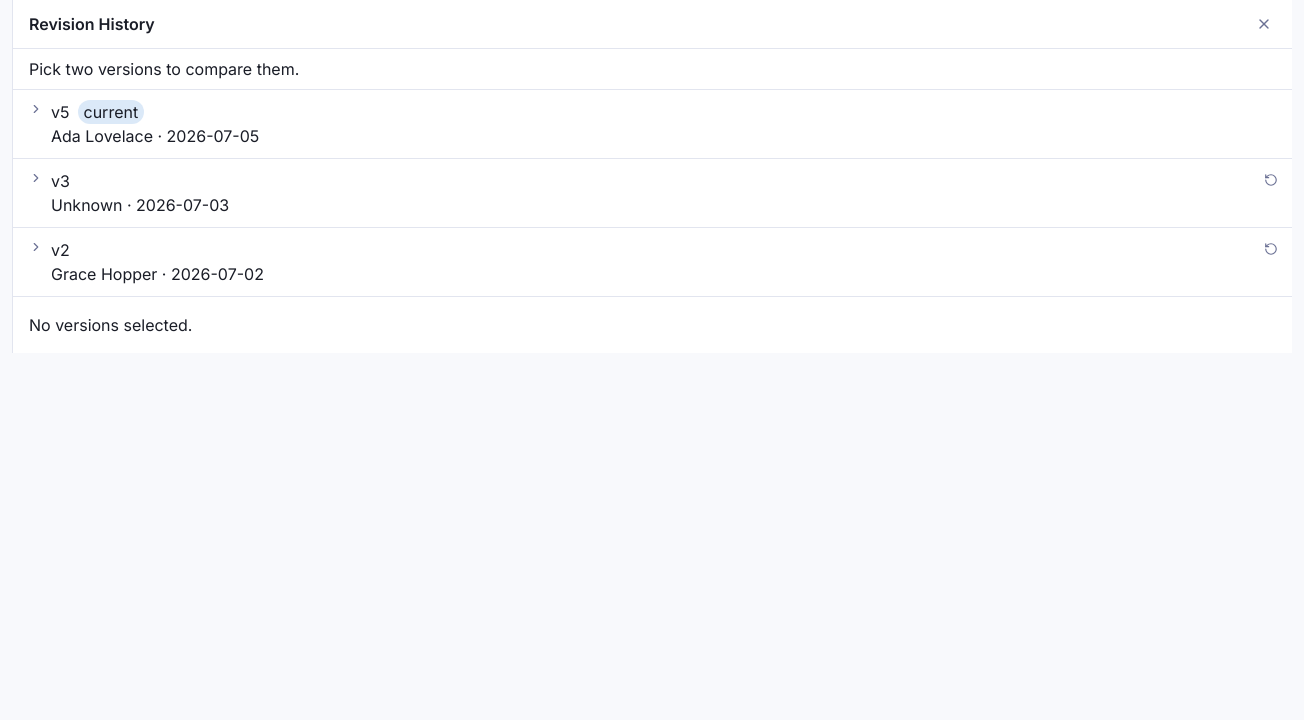
it: comparing two versions › shows the title row when the title did change
Click the button with test id "codex-revision-select" showing "v3 Unknown · 2026-07-03" at (87, 205), box 13,159 -> 1254,227
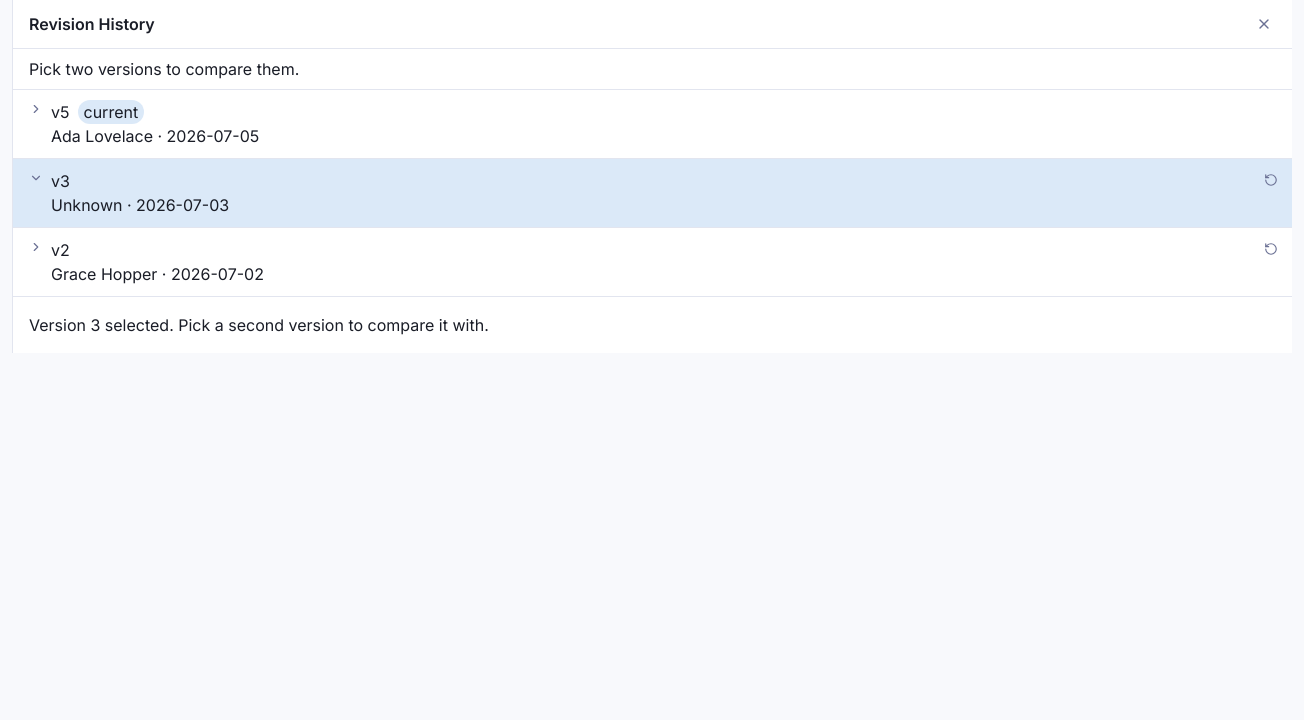
Click the button with test id "codex-revision-select" showing "v2 Grace Hopper · 2026-07-02" at (104, 274), box 13,228 -> 1254,296
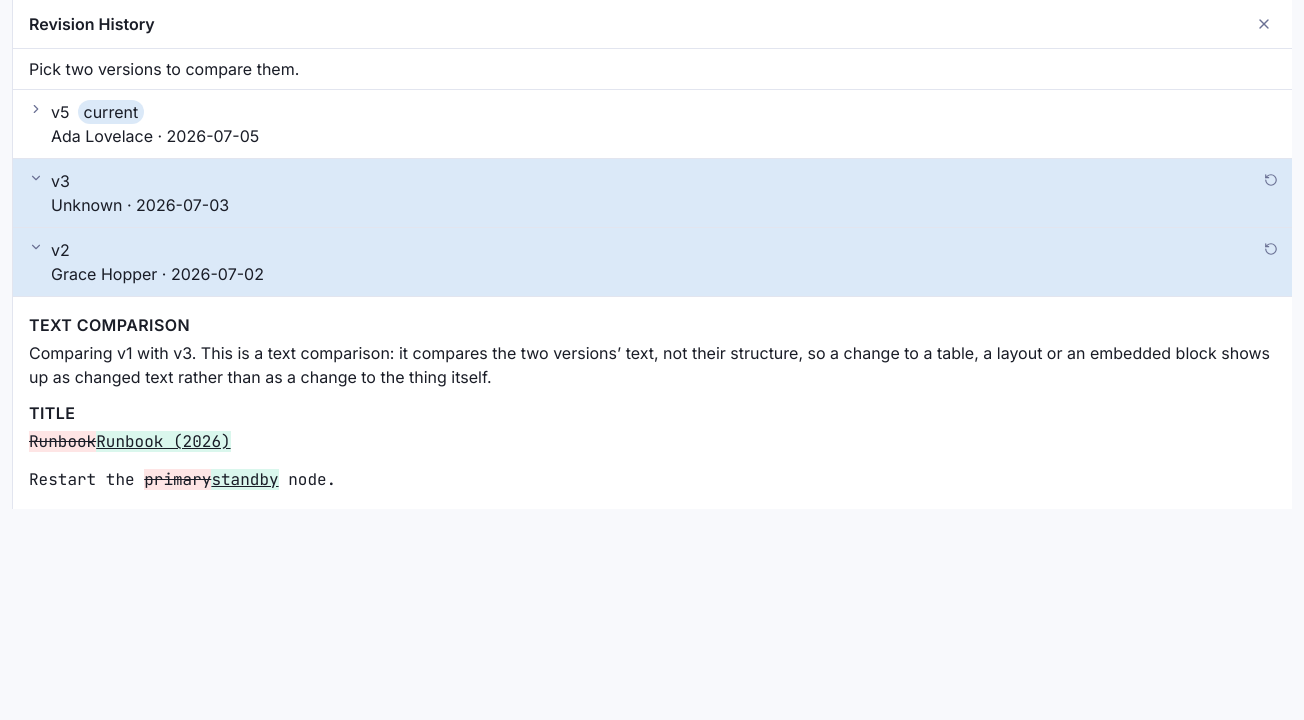
Result: the element with test id "codex-diff-title" shows "Runbook (2026)" at 96,431 -> 231,452
